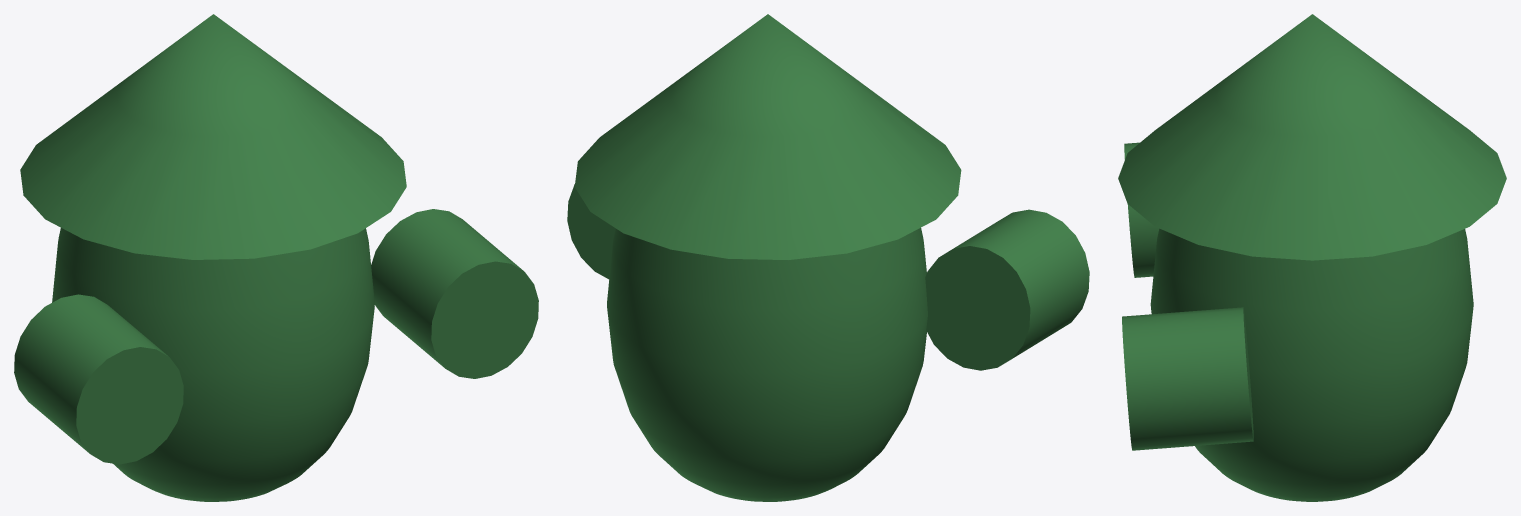
Rendered from Ghost.fbx.
The picture shows the model from 3 angles, left to right: view 1: azimuth 30°, elevation 25°; view 2: azimuth 150°, elevation 25°; view 3: azimuth 270°, elevation 25°; orthographic projection.
Visible parts, largest first — view 1: head, body, pasted__pCylinder1, pCylinder1; view 2: body, head, pasted__pCylinder1, pCylinder1; view 3: head, body, pCylinder1, pasted__pCylinder1.
Part boxes in pixels (x1=…): head: x1=20, y1=14, x2=406, y2=259; body: x1=52, y1=228, x2=374, y2=501; pasted__pCylinder1: x1=14, y1=294, x2=183, y2=464; pCylinder1: x1=371, y1=209, x2=538, y2=378; body: x1=607, y1=228, x2=927, y2=501; head: x1=574, y1=14, x2=961, y2=259; pasted__pCylinder1: x1=925, y1=209, x2=1089, y2=370; pCylinder1: x1=567, y1=184, x2=615, y2=279; head: x1=1118, y1=14, x2=1506, y2=260; body: x1=1150, y1=228, x2=1473, y2=501; pCylinder1: x1=1122, y1=307, x2=1253, y2=450; pasted__pCylinder1: x1=1124, y1=142, x2=1159, y2=277.
Size of the model in its own units: 2.75 by 2.65 by 2.
